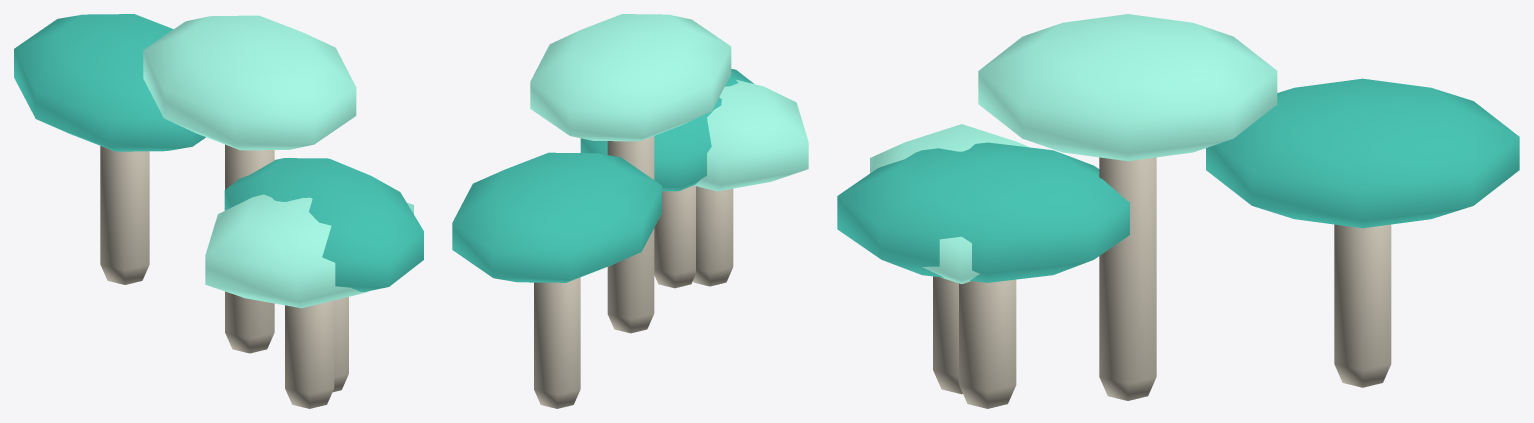
The model's file is prop_mush5_89db.glb.
3 renders of one model, left to right at view 1: azimuth 30°, elevation 25°; view 2: azimuth 150°, elevation 25°; view 3: azimuth 270°, elevation 25°, orthographic. The views are drawn at different scales.
Parts seen in each view (by area): view 1: prop_mush5_89db; view 2: prop_mush5_89db; view 3: prop_mush5_89db.
Part boxes in pixels (x1=…): prop_mush5_89db: x1=14, y1=14, x2=423, y2=408; prop_mush5_89db: x1=452, y1=14, x2=808, y2=408; prop_mush5_89db: x1=837, y1=14, x2=1519, y2=408.
Bounding box in the file's own units: 0.1868 × 0.2704 × 0.4564.
2 materials, 2 textured.
